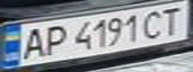1: (121, 11, 145, 43), (90, 16, 109, 48)
4: (72, 19, 93, 52)
9: (106, 15, 127, 47)
A: (18, 25, 48, 61)
C: (139, 8, 169, 39)
P: (39, 22, 69, 56)
T: (154, 3, 190, 37)
